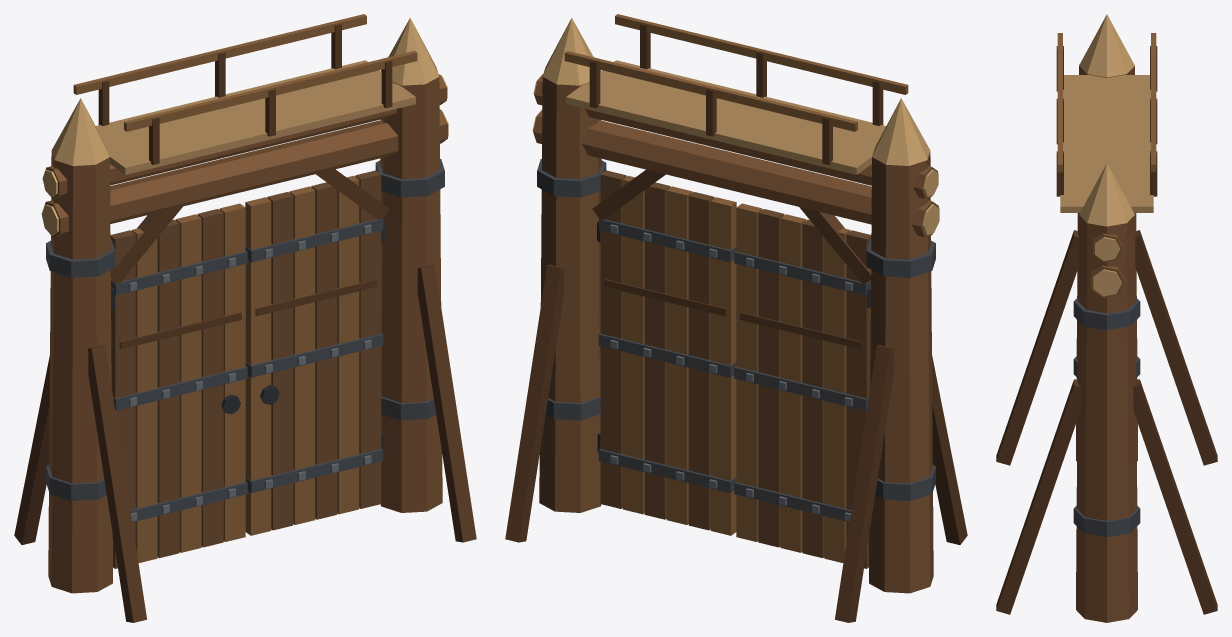
The model's file is palisade_gate.glb.
3 views of the same model, side by side, from view 1: azimuth 30°, elevation 25°; view 2: azimuth 150°, elevation 25°; view 3: azimuth 270°, elevation 25° (orthographic). The views are drawn at different scales.
Visible parts, largest first — view 1: gate_palisade; view 2: gate_palisade; view 3: gate_palisade.
Part boxes in pixels (x1,y1,x2,y2): gate_palisade: [14, 14, 476, 622]; gate_palisade: [505, 14, 967, 622]; gate_palisade: [996, 14, 1217, 622].
Bounding box in the file's own units: 4.04 × 4.77 × 2.13.
